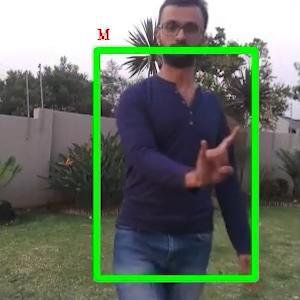takeoff-hand: (194, 126, 248, 186)
